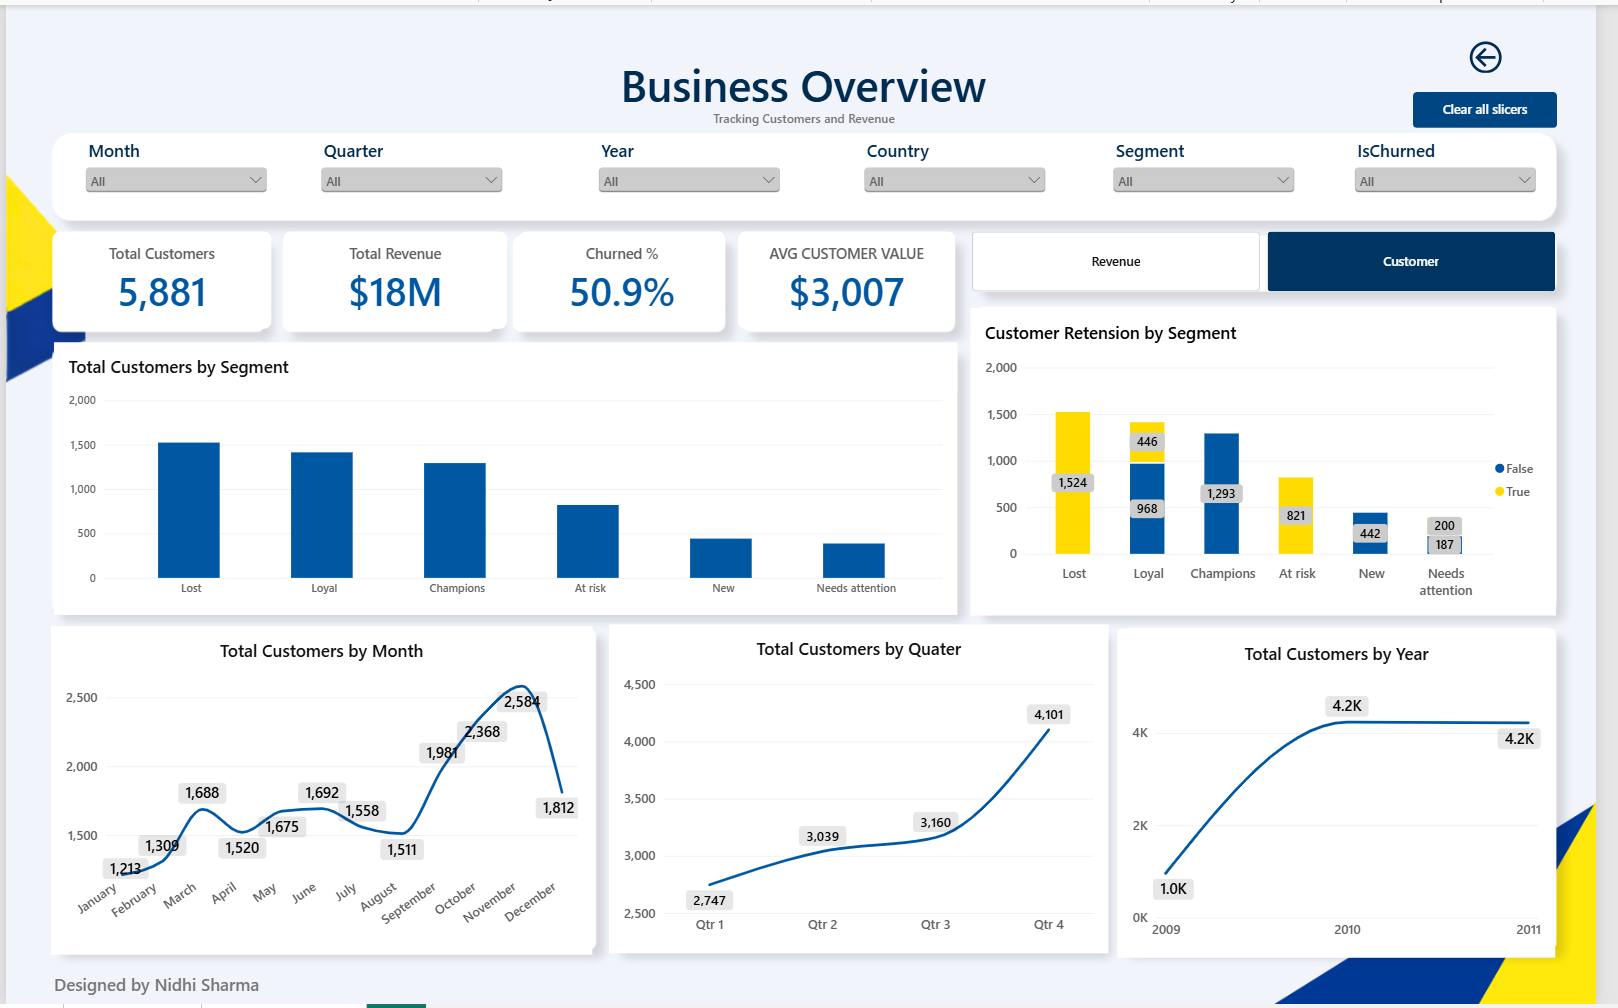

This screenshot's page, from the dashboard's own definition file:
{"tool":"powerbi","page":{"name":"Overview","canvas":[1750,1100],"ordinal":1},"visuals":[{"type":"cardVisual","fields":{"Data":["EcommerceDashboardData.Total Customers"]},"box":[51.2,249.4,241.1,107.4],"z":0},{"type":"columnChart","title":"Customer Retension by Segment","fields":{"Category":["EcommerceDashboardData.Segment"],"Series":["EcommerceDashboardData.IsChurned"],"Y":["EcommerceDashboardData.Total Customers"]},"box":[1062,333.1,644.8,338.7],"z":0,"group":"g1"},{"type":"cardVisual","fields":{"Data":["EcommerceDashboardData.Total Revenue"]},"box":[305.6,249.4,246.1,107.4],"z":1000},{"type":"lineChart","title":"Total Customers by Year","fields":{"Category":["EcommerceDashboardData.InvoiceDate.Variation.Date Hierarchy.Year"],"Y":["EcommerceDashboardData.Total Customers"]},"box":[1224.9,686.3,482.3,361.7],"z":1000,"group":"g1"},{"type":"cardVisual","fields":{"Data":["EcommerceDashboardData.Churned %"]},"box":[564.9,249.4,227.9,107.4],"z":2000},{"type":"columnChart","title":"Total Customers by Segment","fields":{"Category":["EcommerceDashboardData.Segment"],"Y":["EcommerceDashboardData.Total Customers"]},"box":[52.6,370.7,994.7,300.2],"z":2000,"group":"g1"},{"type":"cardVisual","fields":{"Data":["EcommerceDashboardData.AVG CUSTOMER VALUE"]},"box":[806,249.4,239.5,107.4],"z":3000},{"type":"lineChart","title":"Total Customers by Month","fields":{"Category":["EcommerceDashboardData.InvoiceDate.Variation.Date Hierarchy.Month"],"Y":["EcommerceDashboardData.Total Customers"]},"box":[50.1,683.8,596.2,361.7],"z":3000,"group":"g1"},{"type":"slicer","fields":{"Values":["EcommerceDashboardData.InvoiceDate.Variation.Date Hierarchy.Quarter"]},"box":[341.4,147.1,209.9,82.4],"z":4000},{"type":"lineChart","title":"Total Customers by Quater","fields":{"Category":["EcommerceDashboardData.InvoiceDate.Variation.Date Hierarchy.Quarter"],"Y":["EcommerceDashboardData.Total Customers"]},"box":[663.8,681.3,550,361.7],"z":4000,"group":"g1"},{"type":"slicer","fields":{"Values":["EcommerceDashboardData.InvoiceDate.Variation.Date Hierarchy.Year"]},"box":[647.4,147.1,209.9,82.4],"z":5000},{"type":"slicer","fields":{"Values":["EcommerceDashboardData.Country","EcommerceDashboardData.InvoiceDate","EcommerceDashboardData.InvoiceDate.Variation.Date Hierarchy.Month"]},"box":[939.7,147.1,209.9,82.4],"z":6000},{"type":"slicer","fields":{"Values":["EcommerceDashboardData.Segment"]},"box":[1214.4,147.1,209.9,82.4],"z":7000},{"type":"slicer","fields":{"Values":["EcommerceDashboardData.IsChurned"]},"box":[1479.3,147.1,209.9,82.4],"z":8000},{"type":"slicer","fields":{"Values":["EcommerceDashboardData.InvoiceDate.Variation.Date Hierarchy.Month"]},"box":[82.4,147.1,209.9,82.4],"z":9000},{"type":"group","id":"g1","title":"Customer","box":[50.1,333.1,1657,714.9],"z":11000},{"type":"bookmarkNavigator","box":[1063.7,249.4,642.5,66.1],"z":12000},{"type":"textbox","box":[52.9,1065.3,645.8,34.7],"z":13000},{"type":"textbox","box":[594.6,54.5,566.5,80.9],"z":15000},{"type":"actionButton","box":[1579,34.7,100,40],"z":16000},{"type":"actionButton","box":[1549.2,95.8,158.6,39.6],"z":17000},{"type":"textbox","box":[756.5,115.6,244.4,26.4],"z":18000}]}

Visuals, with their boxes in screenshot pixels (x1, y1, x2, y2), scaled from the page's 1750x1100 canvas onto the 1618x1008 screenshot:
cardVisual - EcommerceDashboardData.Total Customers: box(47, 229, 270, 327)
"Customer Retension by Segment" columnChart: box(982, 305, 1578, 616)
cardVisual - EcommerceDashboardData.Total Revenue: box(283, 229, 510, 327)
"Total Customers by Year" lineChart: box(1133, 629, 1578, 960)
cardVisual - EcommerceDashboardData.Churned %: box(522, 229, 733, 327)
"Total Customers by Segment" columnChart: box(49, 340, 968, 615)
cardVisual - EcommerceDashboardData.AVG CUSTOMER VALUE: box(745, 229, 967, 327)
"Total Customers by Month" lineChart: box(46, 627, 598, 958)
slicer - EcommerceDashboardData.InvoiceDate.Variation.Date Hierarchy.Quarter: box(316, 135, 510, 210)
"Total Customers by Quater" lineChart: box(614, 624, 1122, 956)
slicer - EcommerceDashboardData.InvoiceDate.Variation.Date Hierarchy.Year: box(599, 135, 793, 210)
slicer - EcommerceDashboardData.Country x EcommerceDashboardData.InvoiceDate: box(869, 135, 1063, 210)
slicer - EcommerceDashboardData.Segment: box(1123, 135, 1317, 210)
slicer - EcommerceDashboardData.IsChurned: box(1368, 135, 1562, 210)
slicer - EcommerceDashboardData.InvoiceDate.Variation.Date Hierarchy.Month: box(76, 135, 270, 210)
"Customer" group: box(46, 305, 1578, 960)
bookmarkNavigator: box(983, 229, 1578, 289)
textbox: box(49, 976, 646, 1007)
textbox: box(550, 50, 1074, 124)
actionButton: box(1460, 32, 1552, 68)
actionButton: box(1432, 88, 1579, 124)
textbox: box(699, 106, 925, 130)
